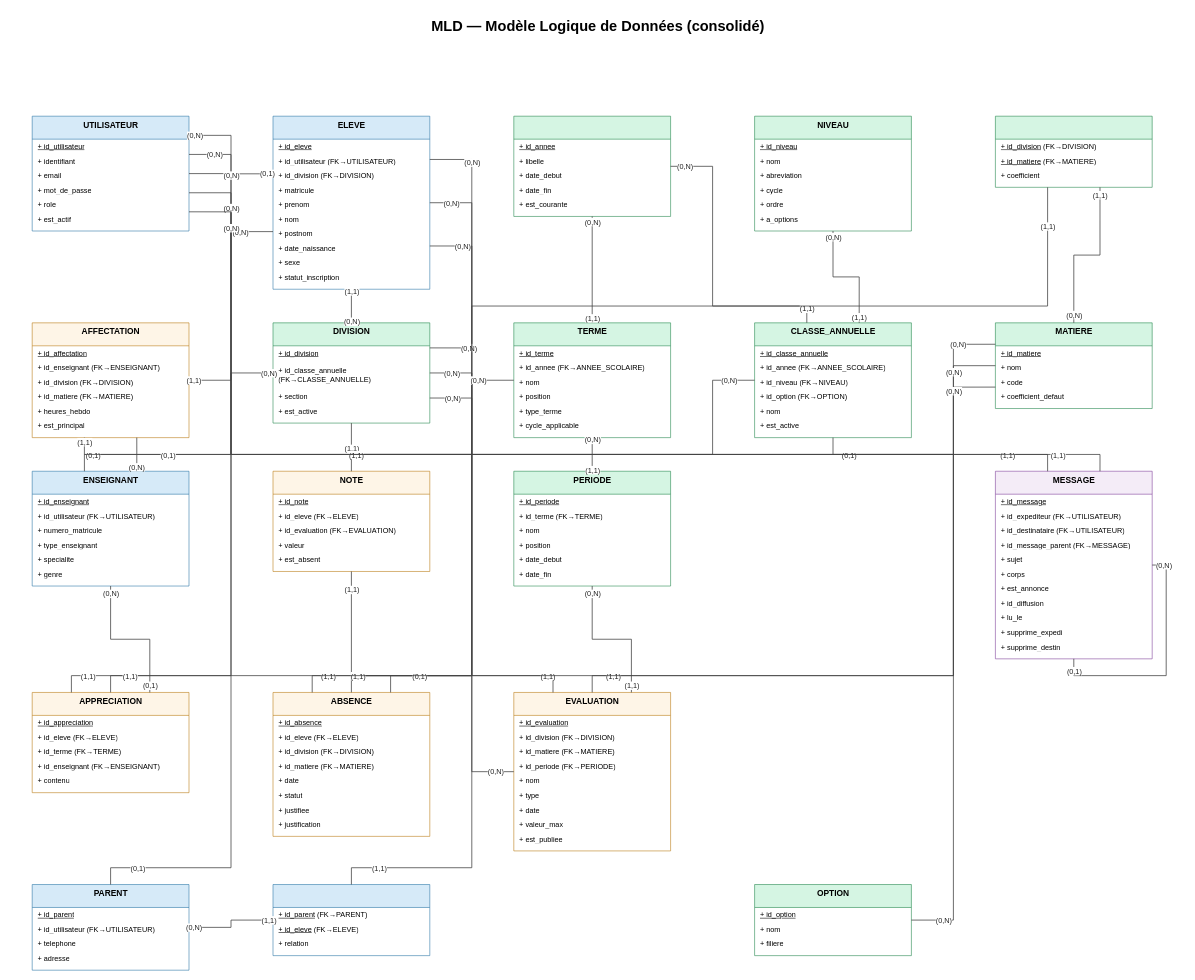
The diagram is 1195 pixels wide and 980 high, and some of its shapes have lost their labels. The box of each missing label's shape, as (x1, y1, x2, y2) in pixels:
ANNEE_SCOLAIRE: (513, 116, 671, 216)
PARENT_ELEVE: (272, 884, 430, 956)
PROGRAMME: (995, 116, 1152, 187)
